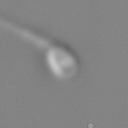normal: (1, 16, 52, 50)
